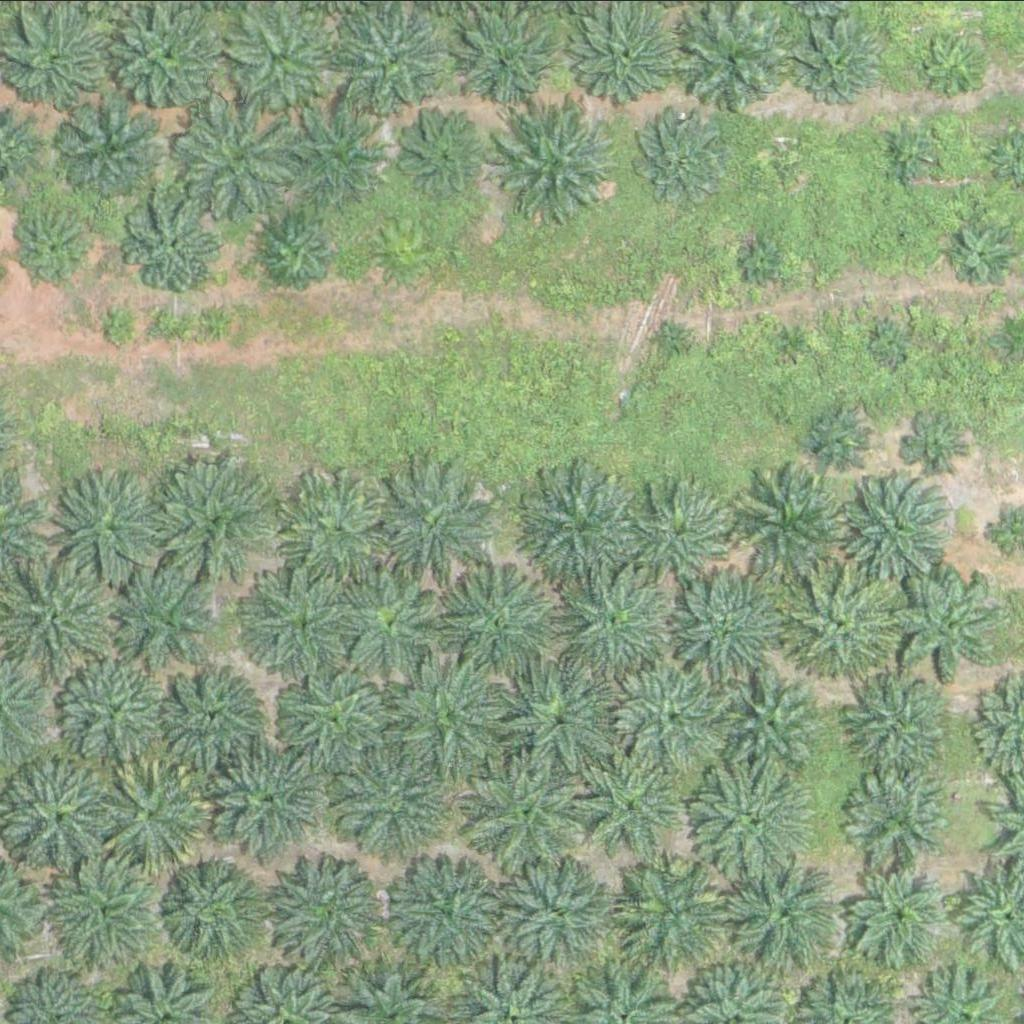Kelapa_Sawit: (50, 459, 176, 584), (146, 460, 272, 585), (2, 756, 128, 881), (172, 98, 298, 223), (238, 559, 364, 684), (274, 652, 400, 777), (276, 465, 402, 590), (266, 847, 392, 972), (384, 844, 510, 969), (610, 848, 736, 973), (726, 849, 852, 974), (466, 751, 592, 876), (334, 744, 460, 869), (206, 739, 332, 864), (397, 655, 523, 780), (500, 661, 626, 786), (622, 653, 748, 778), (673, 566, 799, 691), (559, 558, 685, 683), (438, 563, 564, 688), (376, 461, 502, 586), (521, 465, 647, 590), (741, 454, 867, 579), (492, 105, 618, 230), (99, 749, 224, 874), (41, 847, 166, 972), (497, 848, 622, 973), (693, 753, 818, 878), (116, 564, 229, 677), (56, 652, 169, 765), (675, 6, 788, 119), (888, 564, 1001, 677), (282, 97, 395, 209), (338, 2, 451, 114), (848, 468, 961, 580), (783, 564, 896, 676), (64, 98, 165, 198), (157, 670, 258, 770), (157, 860, 258, 960), (584, 753, 685, 853), (636, 479, 737, 579), (631, 109, 732, 209), (459, 6, 560, 106), (850, 672, 951, 772), (849, 773, 950, 873), (852, 863, 953, 963), (127, 194, 227, 294), (346, 572, 446, 672), (13, 199, 101, 287), (732, 681, 821, 768), (396, 110, 484, 197), (799, 13, 887, 100), (261, 213, 337, 288), (904, 415, 967, 478), (806, 405, 869, 468), (879, 122, 942, 185), (948, 226, 1011, 288), (924, 32, 987, 94), (870, 325, 908, 363), (772, 321, 810, 359), (653, 320, 691, 358), (104, 307, 142, 344), (766, 135, 803, 173), (746, 240, 784, 277), (896, 221, 921, 246)
